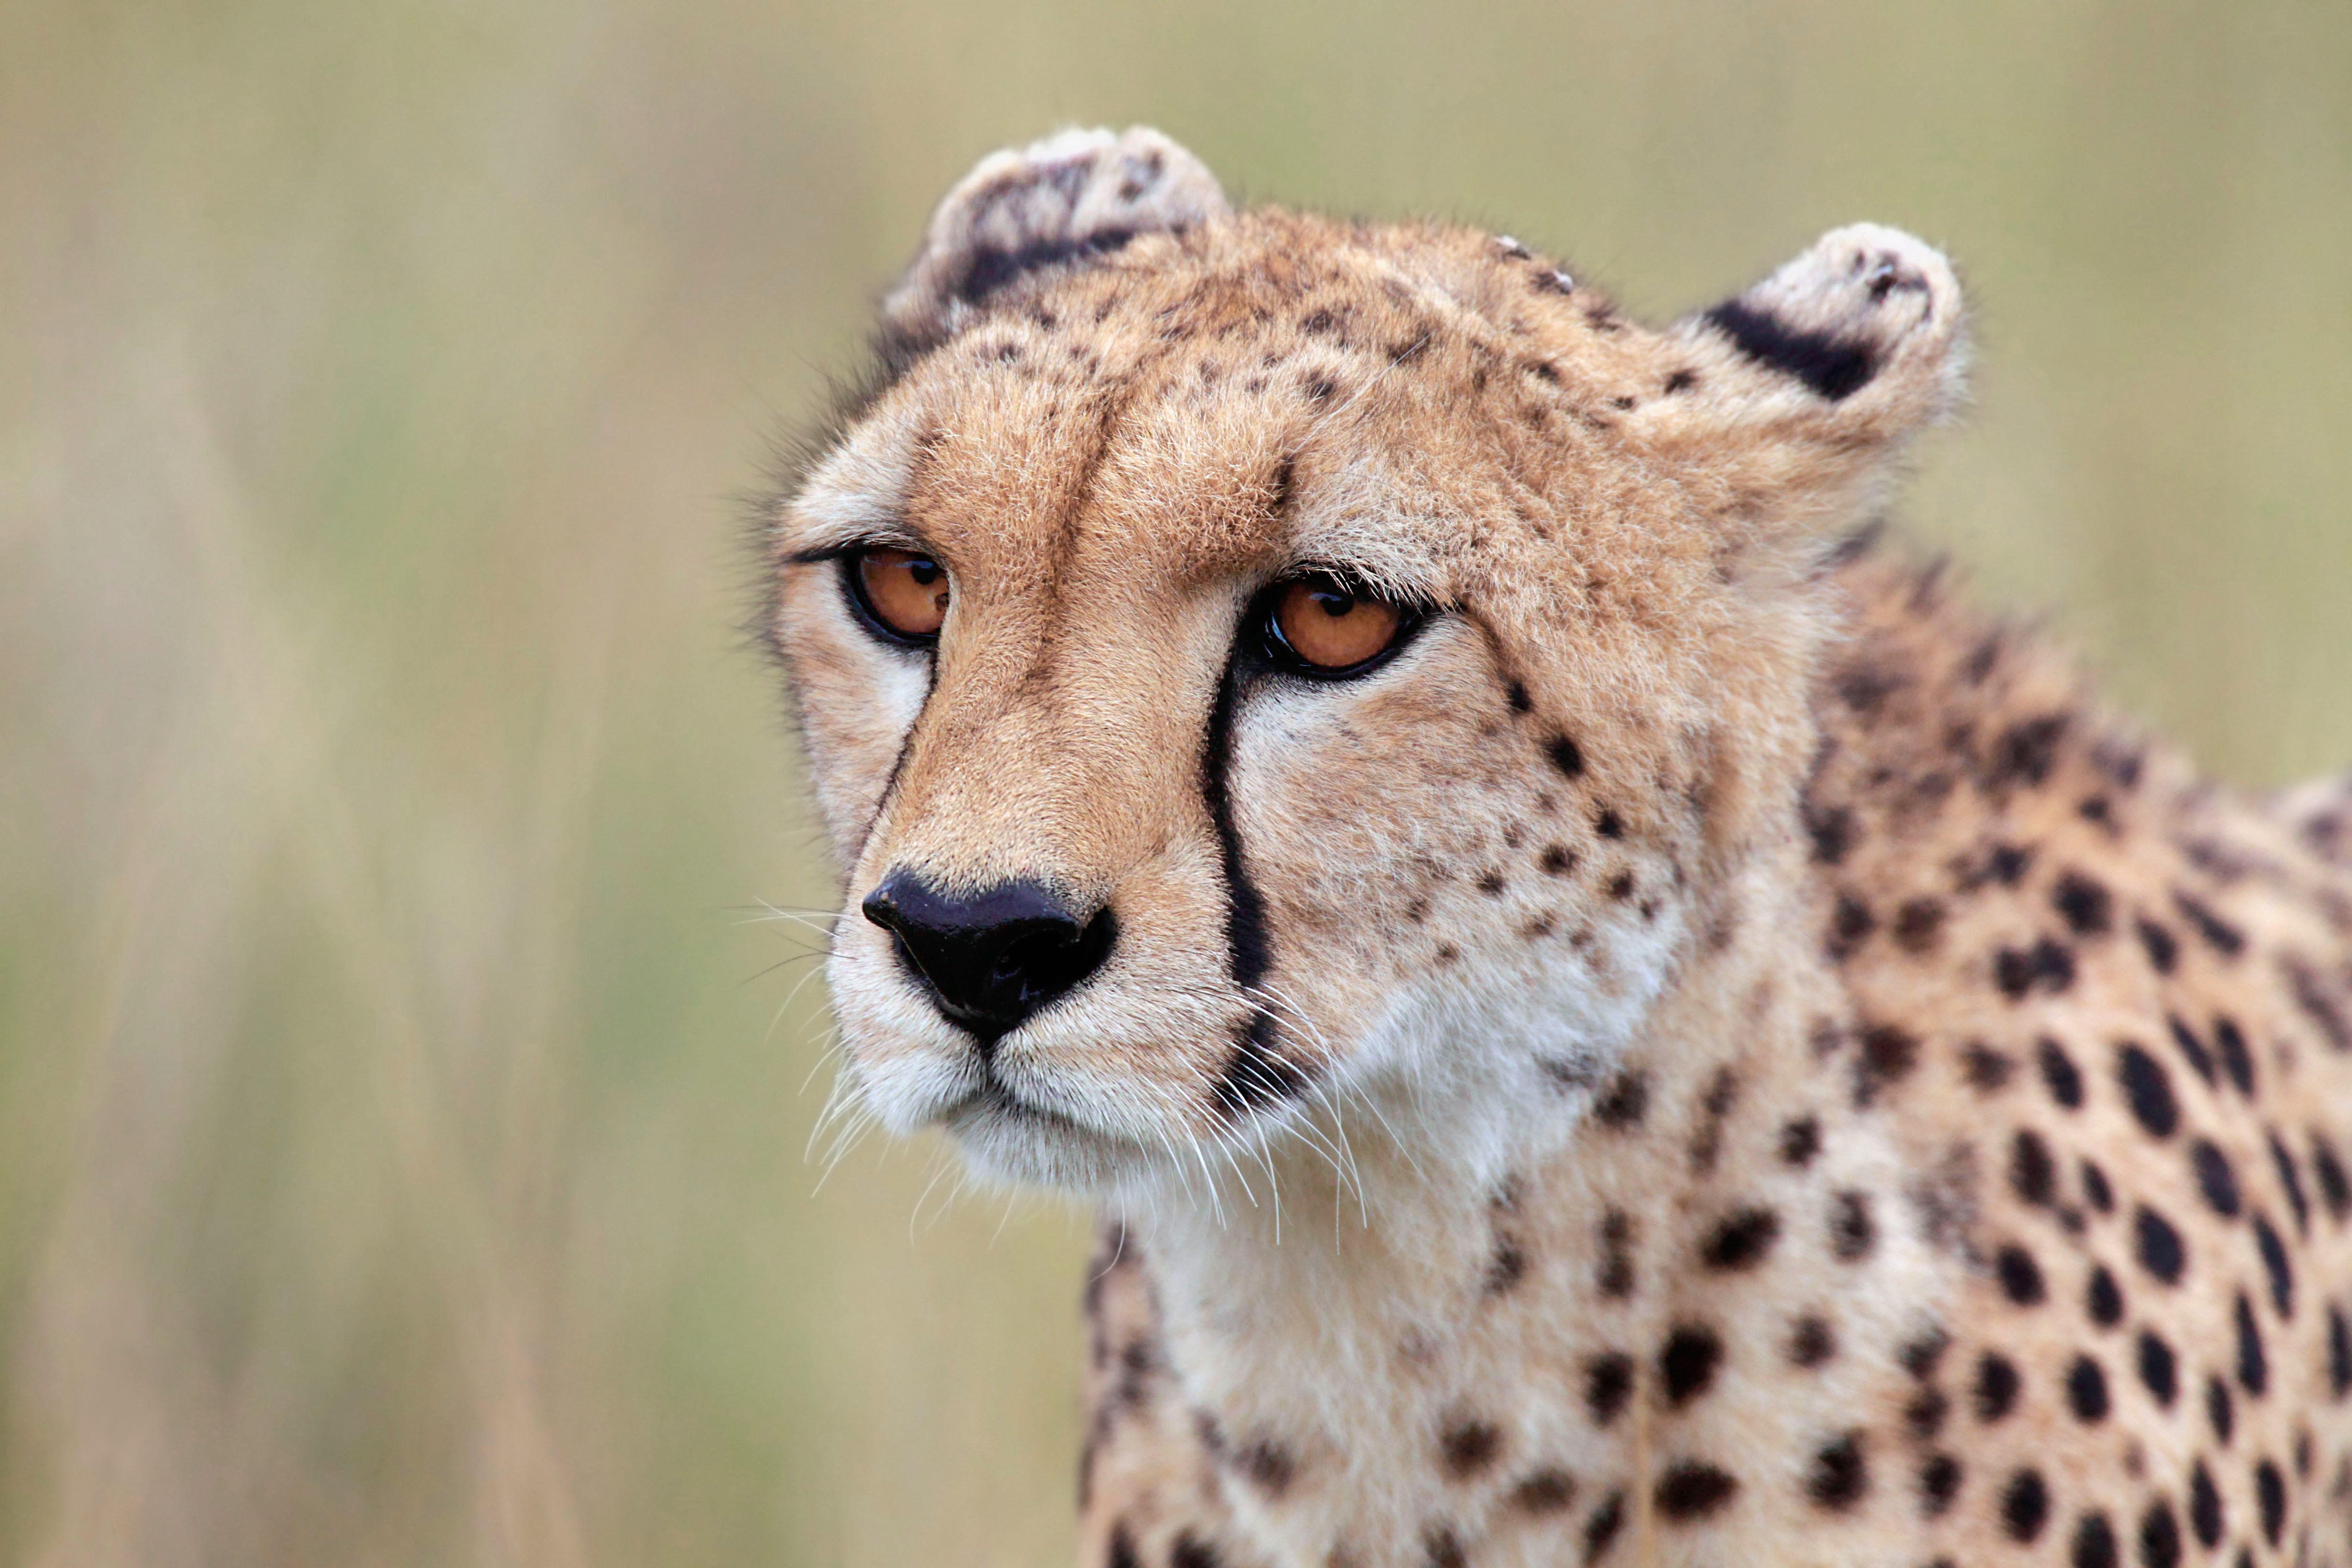cheetah: (621, 73, 2040, 1274)
